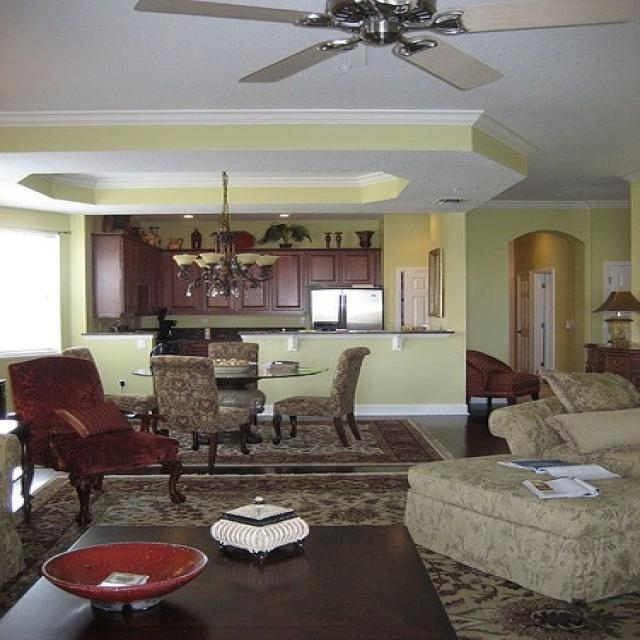chair: (5, 354, 184, 518), (145, 353, 248, 453), (273, 344, 372, 439), (63, 346, 154, 428), (464, 350, 540, 398), (205, 340, 259, 362)
sofa: (485, 373, 638, 485)
